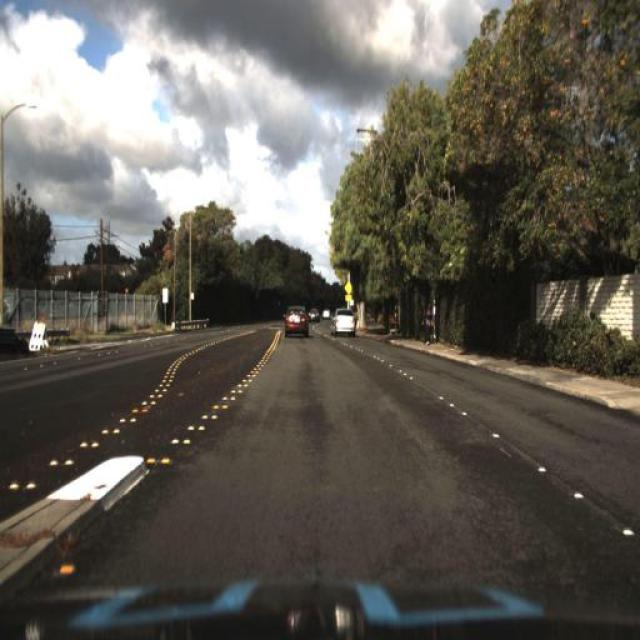car: (278, 300, 314, 344), (329, 305, 359, 341)
trafficLight: (421, 291, 437, 353)
